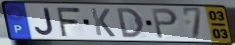7: (181, 6, 204, 42)
D: (115, 7, 146, 39)
F: (54, 6, 82, 37)
J: (34, 7, 56, 37)
K: (89, 7, 117, 38)
P: (150, 8, 180, 40)
